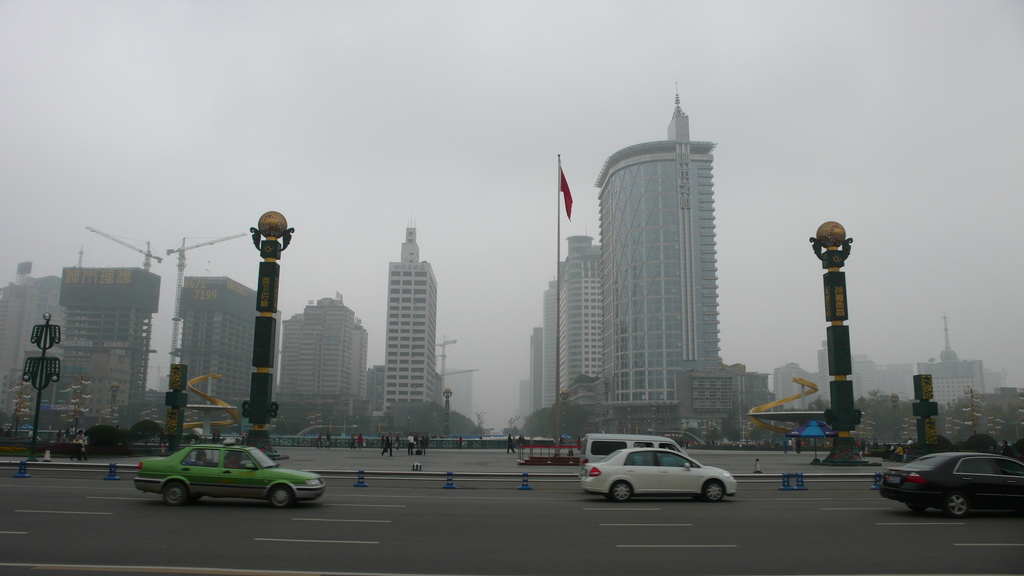Car: (136, 440, 325, 510), (881, 445, 1023, 516), (582, 445, 736, 501)
